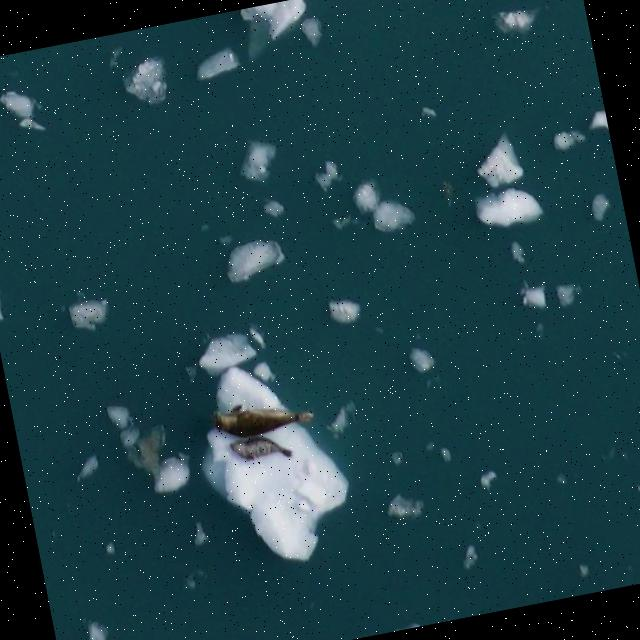seal: (208, 401, 313, 445), (229, 436, 294, 462)
